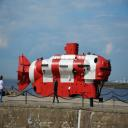submarine: (19, 42, 116, 93)
